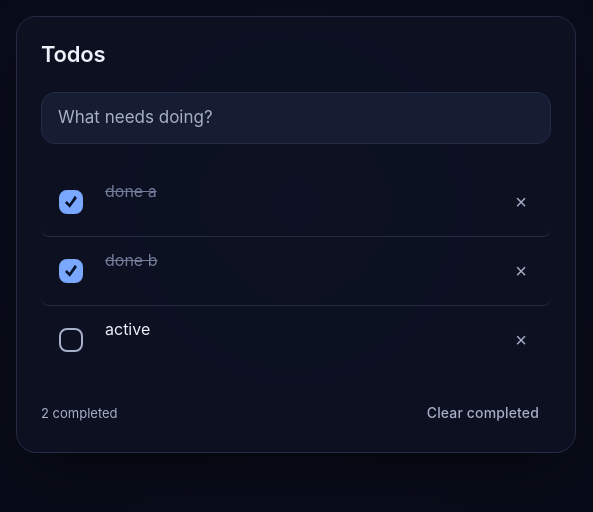
Clear-completed deferred commit (AD-7) › on bulk-delete failure returns the cleared rows and shows an inline error
Step 1. Click the button "Clear completed" → (483, 413), box [415, 398, 551, 428]
Wait 6000 ms
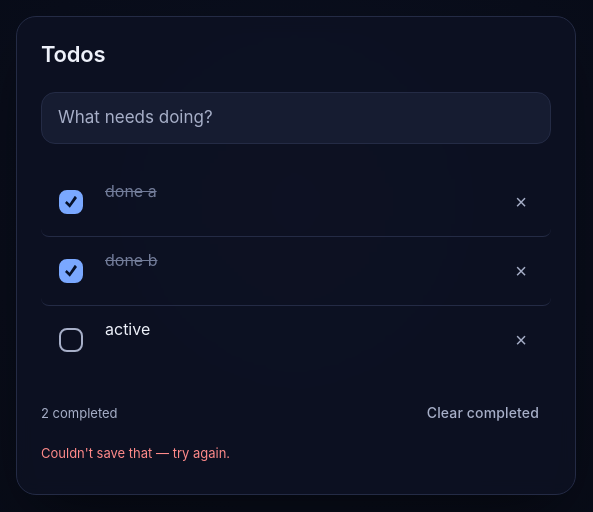
Expected: the text "done a" is shown, [105, 181, 157, 201]
Now the message "Couldn't save that — try again." is shown, box [41, 445, 230, 461]
